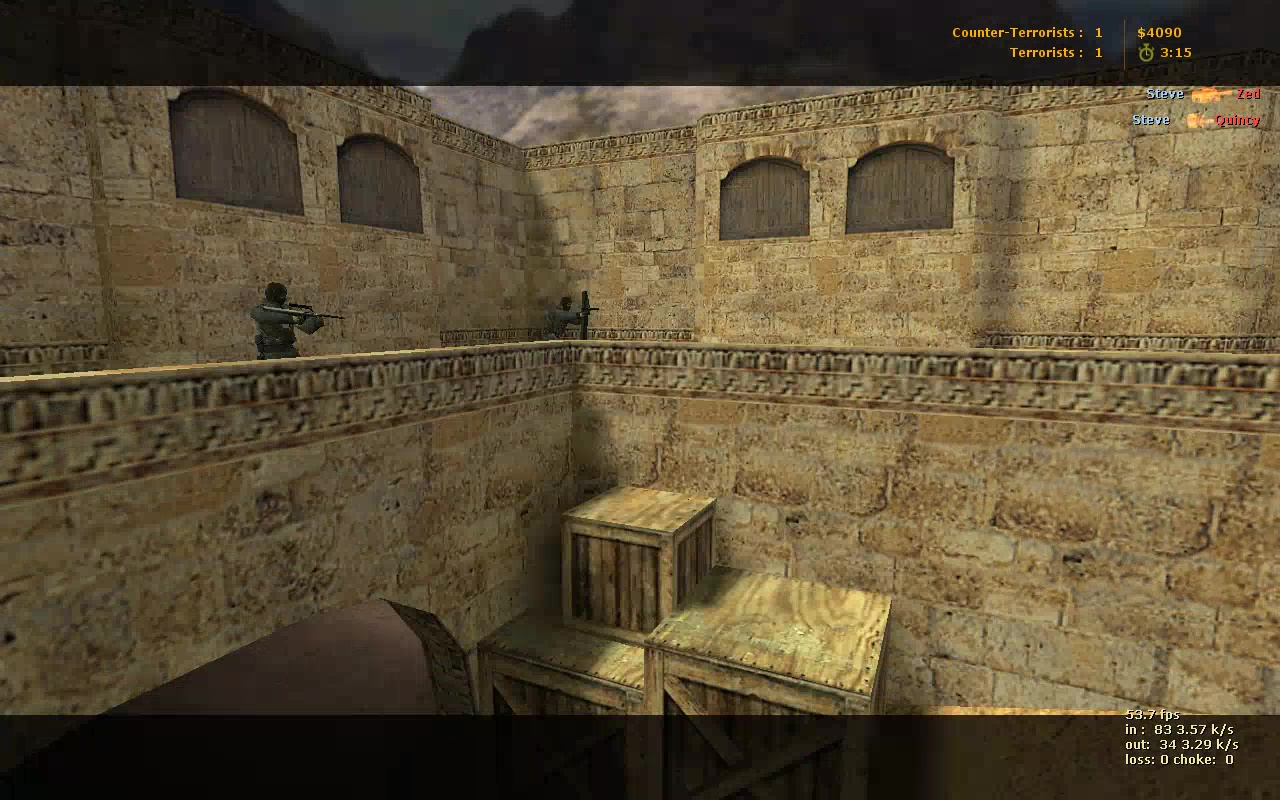ct: (250, 284, 325, 361), (543, 293, 592, 344)
